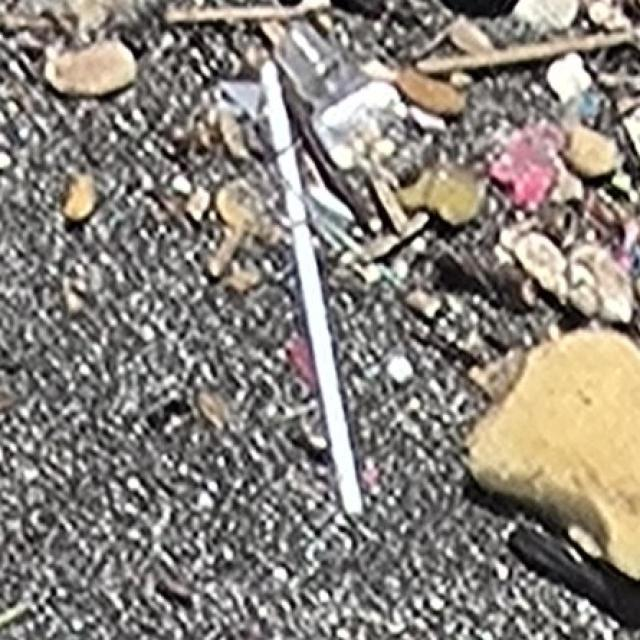plastic_waste: (259, 58, 367, 520)
